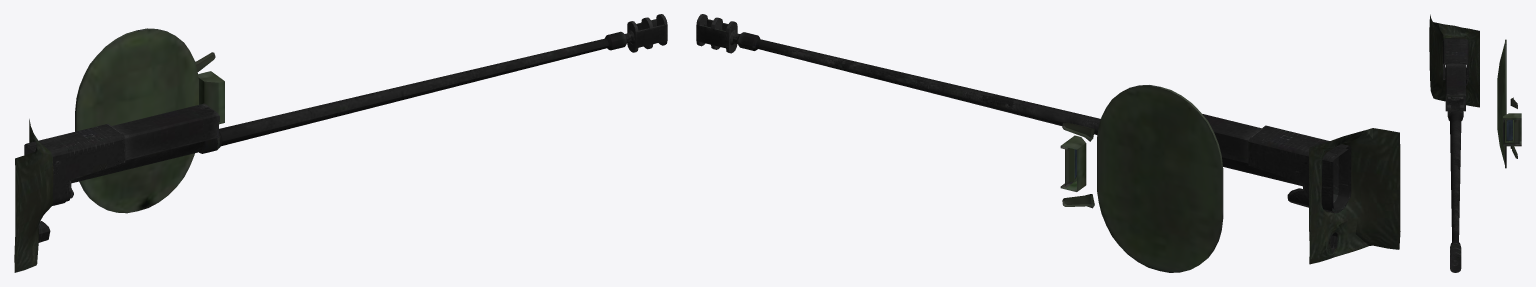
File: gun.gltf
The picture shows the model from 3 angles, left to right: view 1: azimuth 30°, elevation 25°; view 2: azimuth 150°, elevation 25°; view 3: azimuth 270°, elevation 25°; orthographic projection. The views are drawn at different scales.
Parts seen in each view (by area): view 1: gun; view 2: gun; view 3: gun.
Part boxes in pixels (x1,y1,x2,y2): gun: (14,14,667,272); gun: (696,14,1400,272); gun: (1429,14,1521,272).
Size of the model in its own units: 2.51 by 0.6468 by 0.4502.
Materials: 3 (3 with a texture image).
